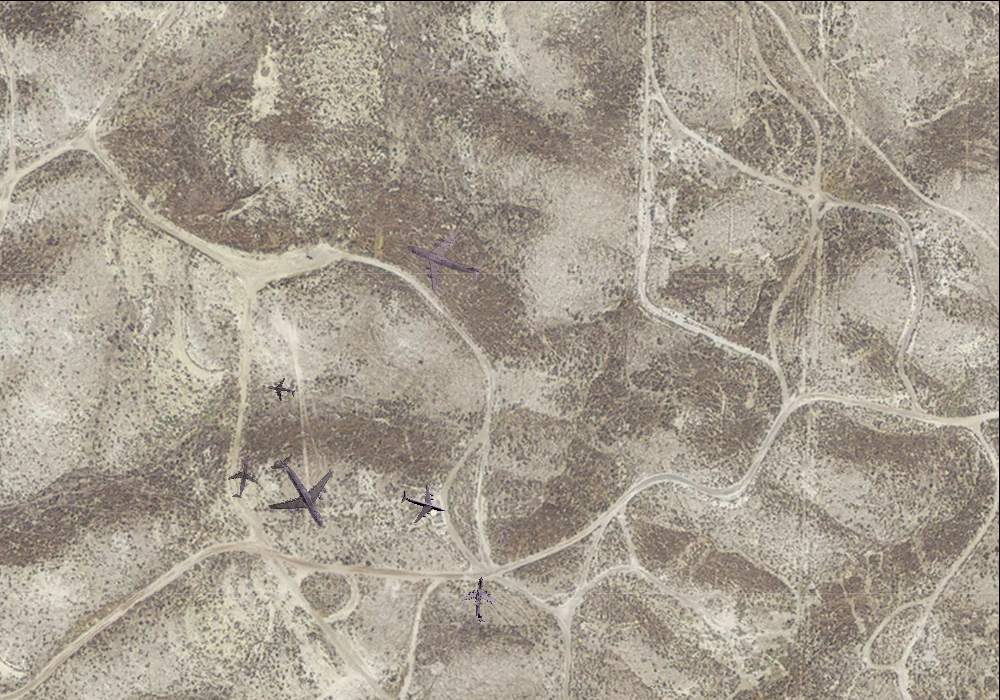plane: (248, 439, 354, 547), (394, 210, 494, 308), (395, 476, 451, 530), (457, 575, 503, 625), (220, 457, 262, 501), (265, 375, 297, 405)
